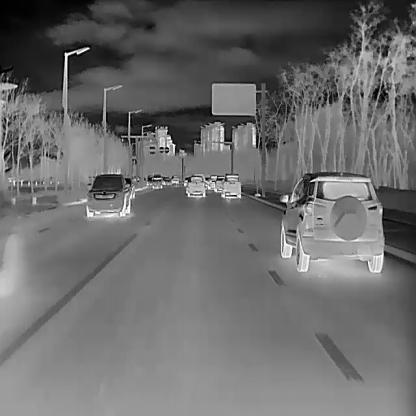car: (278, 171, 384, 272), (85, 174, 131, 216), (220, 172, 240, 197), (184, 174, 204, 197), (124, 176, 135, 198), (191, 172, 205, 188), (214, 175, 225, 190), (152, 172, 162, 188), (207, 174, 215, 188), (162, 176, 171, 184), (171, 174, 178, 183)
